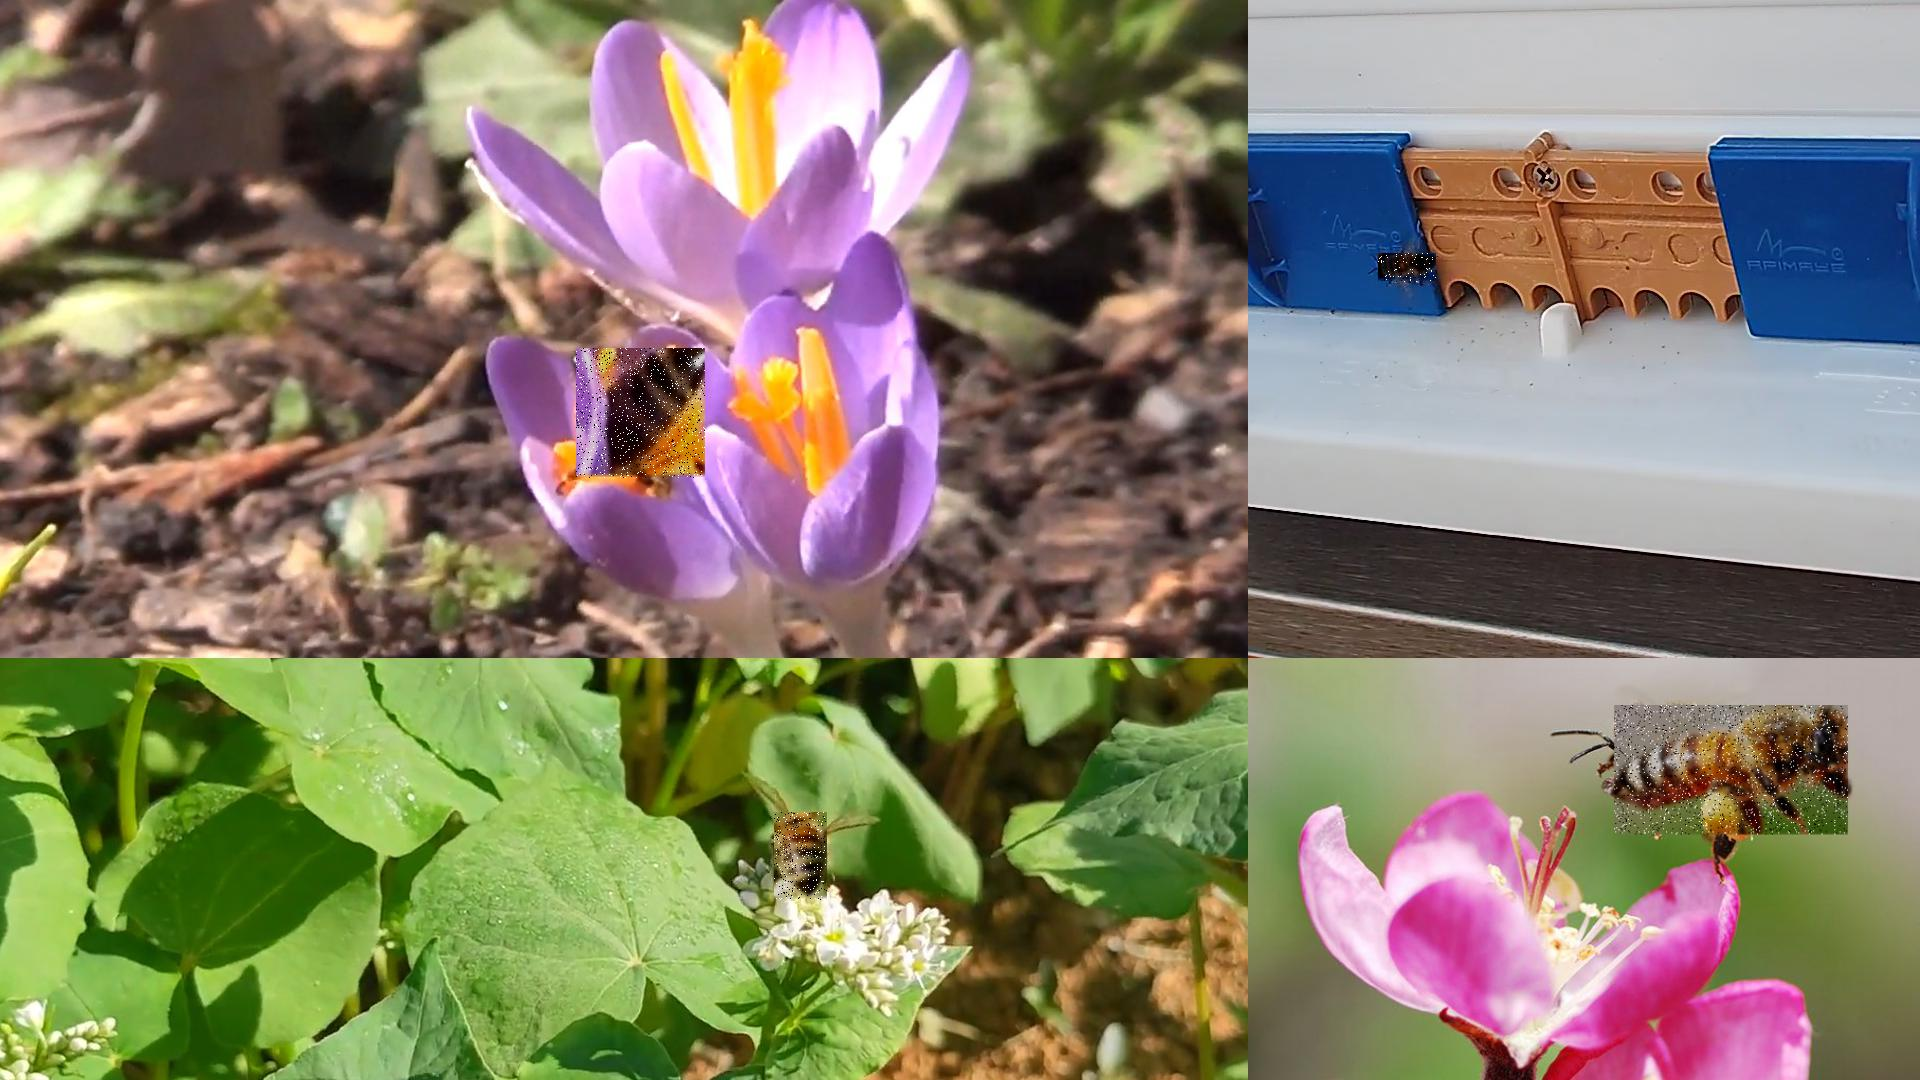bee: (576, 348, 707, 480), (774, 812, 828, 902), (1378, 255, 1437, 284)
pollenbee: (1614, 705, 1850, 836)
